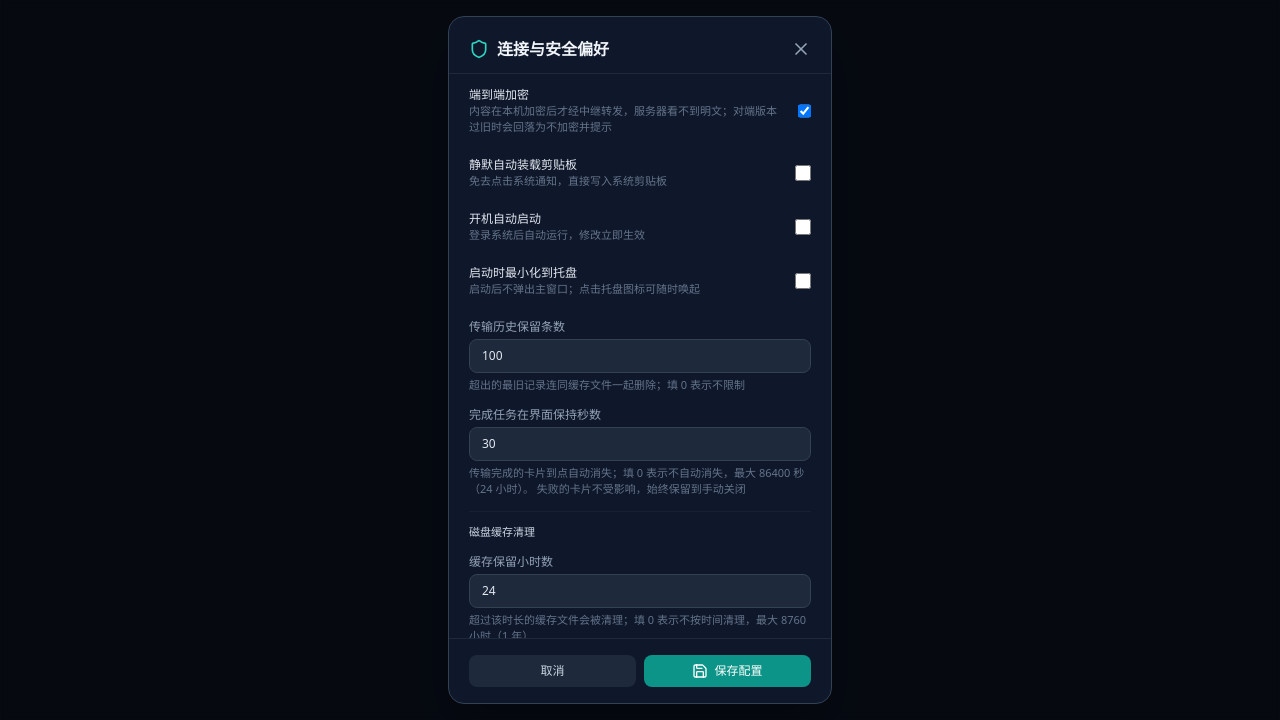
Test: 设置面板的数值校验 › 超出 u32 上限的保留条数被拦下
(page scrolled)
Replace the text in the number field labelled "传输历史保留条数" with "99999999999" at (640, 356), box [469,339,811,373]
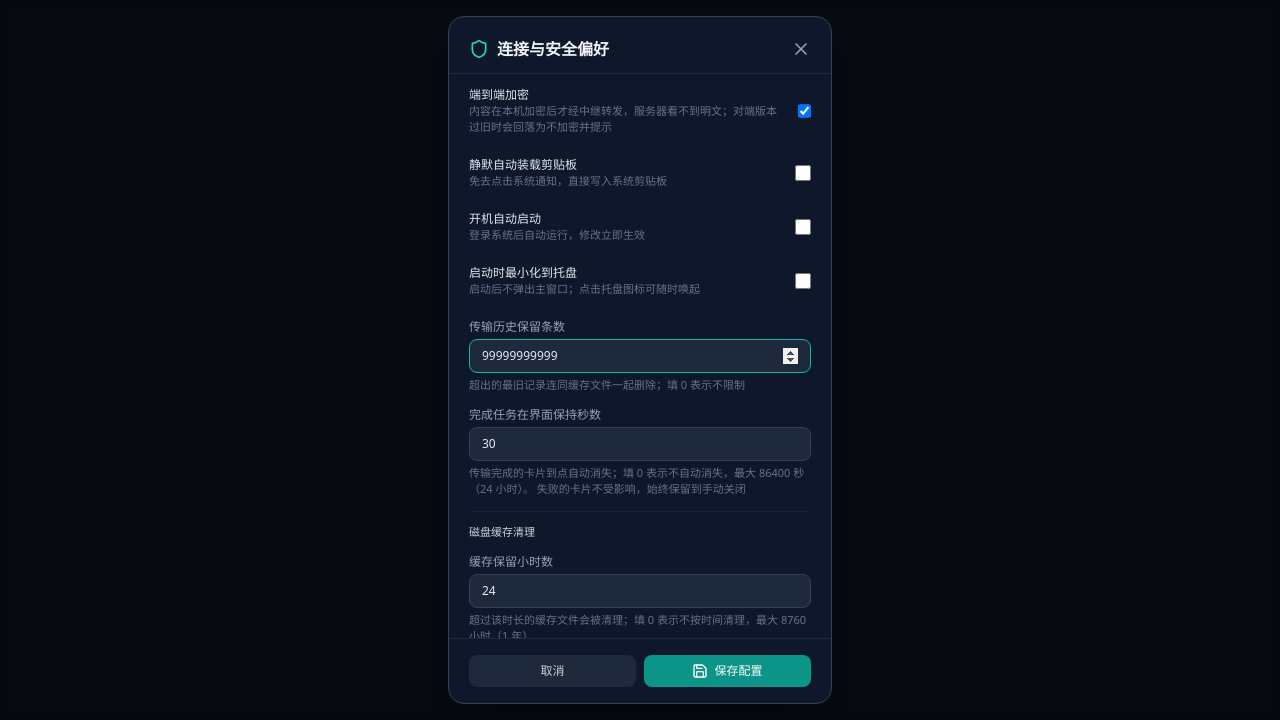
Click the button "保存配置" at (728, 671), box [644,655,811,687]
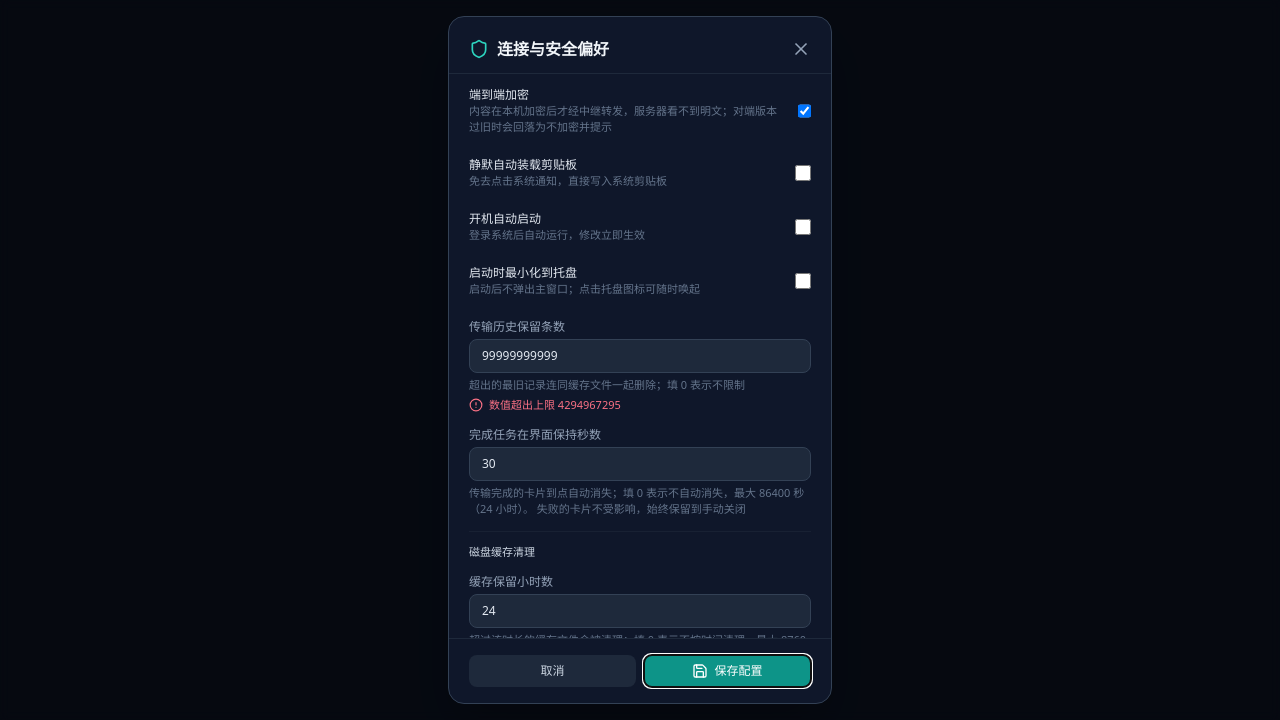
Now the text "数值超出上限 4294967295" is shown, box [489,397,621,413]
